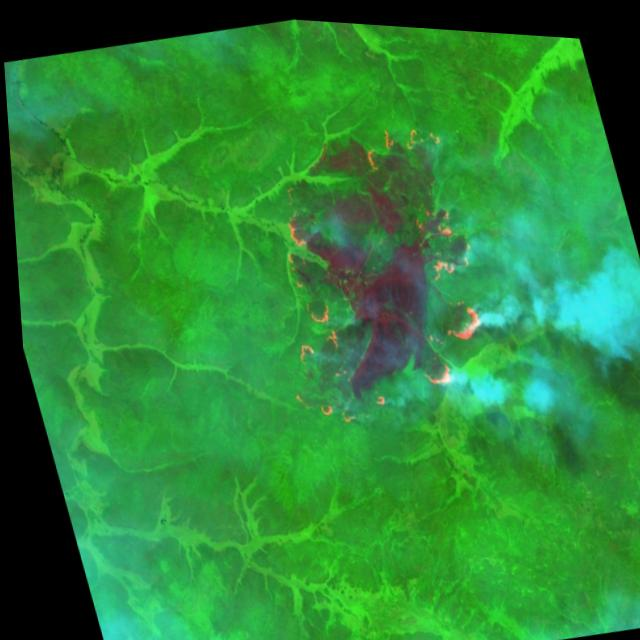fire: (239, 198, 389, 438), (348, 104, 476, 285), (396, 287, 499, 395)
